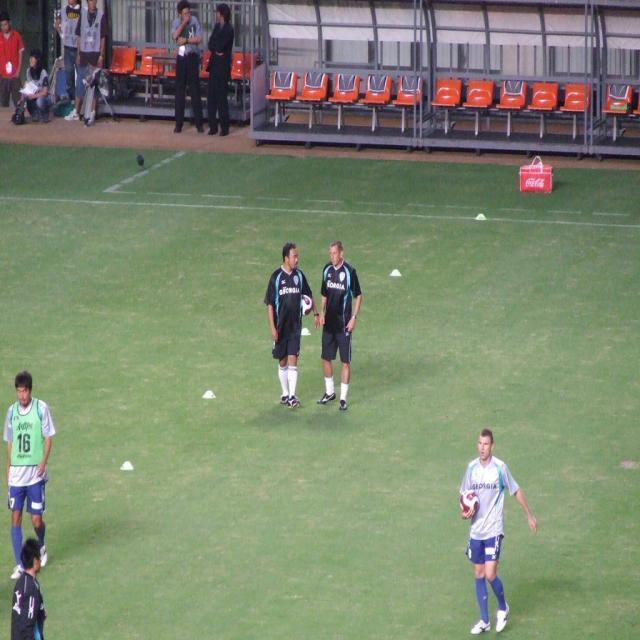ball: (460, 490, 479, 515)
